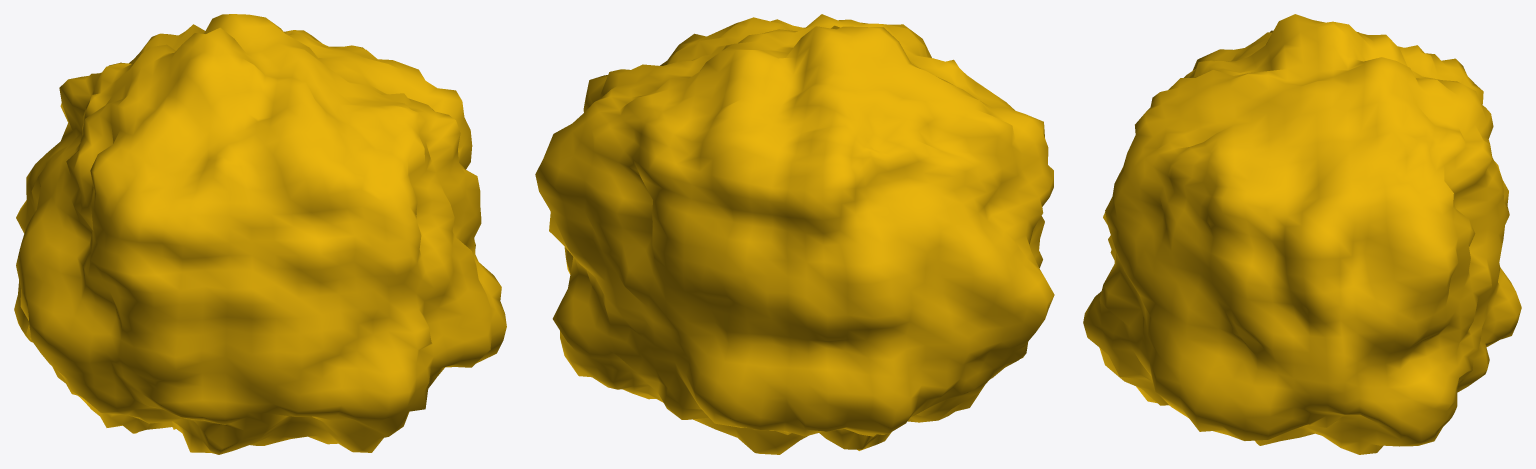
Rendered from 唐揚げ.fbx.
The picture shows the model from 3 angles, left to right: view 1: azimuth 30°, elevation 25°; view 2: azimuth 150°, elevation 25°; view 3: azimuth 270°, elevation 25°; orthographic projection. The views are drawn at different scales.
Visible parts, largest first — view 1: 平面.008; view 2: 平面.008; view 3: 平面.008.
Boxes of the visible parts, box(x1,y1,x2,y2) form: 平面.008: box(14, 14, 506, 454); 平面.008: box(535, 14, 1054, 454); 平面.008: box(1083, 14, 1521, 454).
Bounding box in the file's own units: 0.5765 × 0.4861 × 0.5045.
